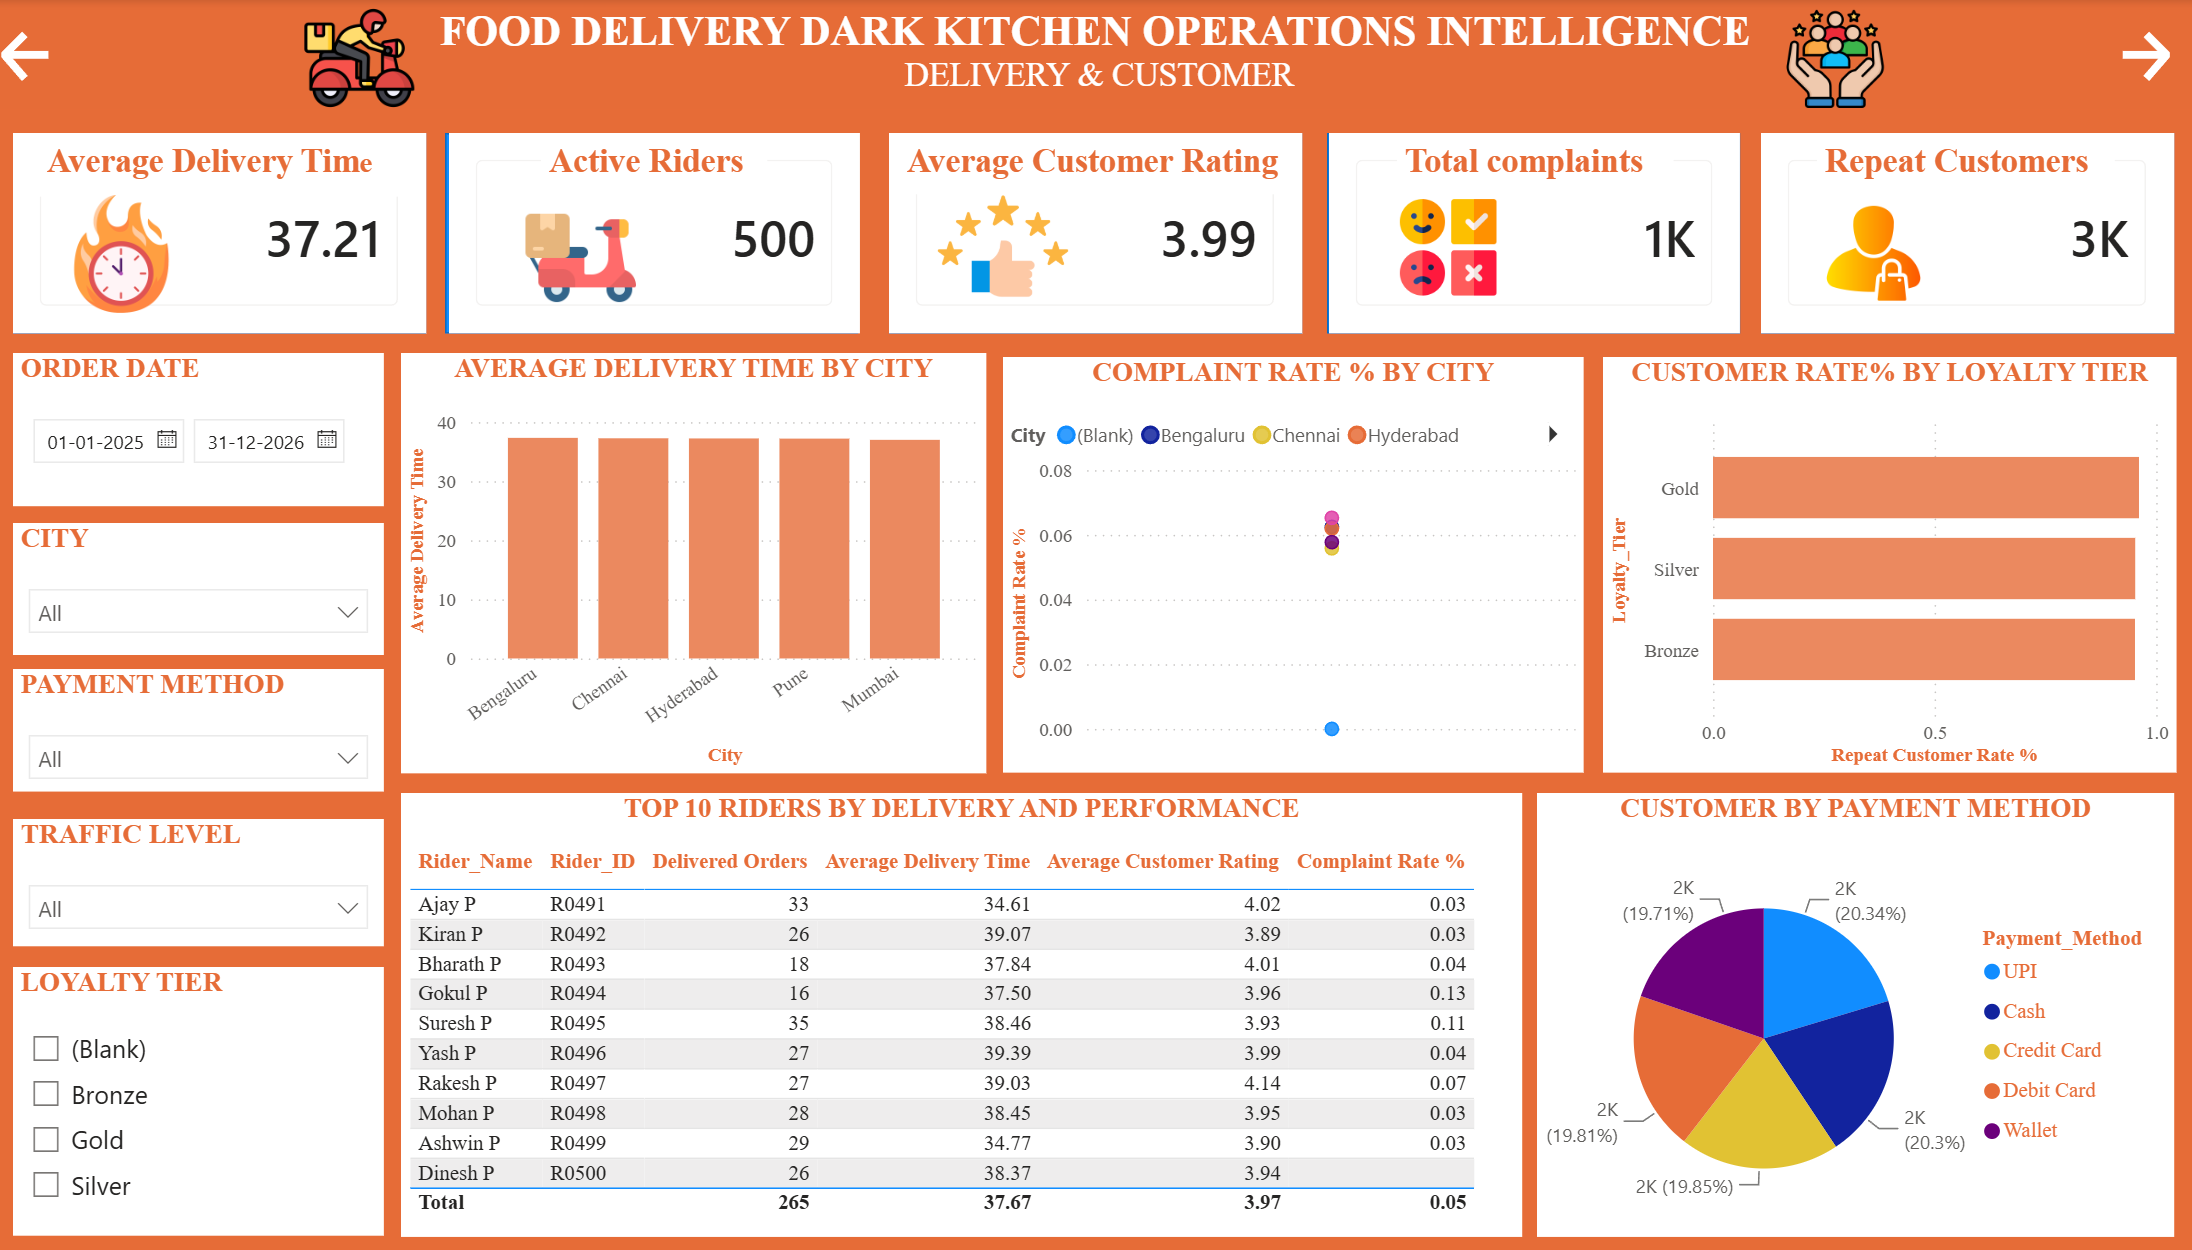

The page's visual inventory and layout, read from the dashboard file:
{"tool":"powerbi","page":{"name":"Delivery & Customer","canvas":[1400,800],"ordinal":2},"visuals":[{"type":"textbox","box":[0,0,1400,70.6],"z":0},{"type":"shape","box":[12,85.6,262.9,127.7],"z":1000},{"type":"shape","box":[286.9,85.6,262.9,127.7],"z":2000},{"type":"shape","box":[569.3,85.6,262.9,127.7],"z":3000},{"type":"shape","box":[1123.6,85.6,262.9,127.7],"z":4000},{"type":"shape","box":[847.2,85.6,262.9,127.7],"z":5000},{"type":"cardVisual","fields":{"Data":["DB 3 Measures.Active Riders"]},"box":[288.4,85.6,261.4,127.7],"z":6000},{"type":"cardVisual","fields":{"Data":["DB 3 Measures.Average Customer Rating"]},"box":[569.3,85.6,262.9,127.7],"z":7000},{"type":"cardVisual","fields":{"Data":["DB 3 Measures.Total Complaints"]},"box":[848.7,85.6,261.4,127.7],"z":8000},{"type":"cardVisual","fields":{"Data":["DB 3 Measures.Repeat Customers"]},"box":[1123.6,85.6,262.9,127.7],"z":9000},{"type":"cardVisual","fields":{"Data":["DB 3 Measures.Average Delivery Time"]},"box":[12,85.6,262.9,127.7],"z":10000},{"type":"textbox","box":[28.5,85.6,229.8,40.6],"z":11000},{"type":"textbox","box":[347,85.6,144.2,42.1],"z":12000},{"type":"textbox","box":[575.3,85.6,249.4,39.1],"z":13000},{"type":"textbox","box":[892.3,85.6,175.8,34.5],"z":14000},{"type":"textbox","box":[1159.7,85.6,189.3,39.1],"z":15000},{"type":"image","box":[40.6,124.7,76.6,75.1],"z":16000},{"type":"image","box":[306.4,127.7,132.2,75.1],"z":17000},{"type":"image","box":[575.3,111.2,132.2,91.6],"z":18000},{"type":"image","box":[881.8,127.7,85.6,61.6],"z":19000},{"type":"image","box":[1159.7,127.7,72.1,69.1],"z":20000},{"type":"clusteredColumnChart","title":"AVERAGE DELIVERY TIME BY CITY","fields":{"Category":["customers.City"],"Y":["DB 3 Measures.Average Delivery Time"]},"box":[258.4,225.3,372.5,267.4],"z":21000},{"type":"scatterChart","title":"COMPLAINT RATE % BY CITY","fields":{"Y":["DB 3 Measures.Complaint Rate %"],"Series":["customers.City"]},"box":[641.4,228.3,369.5,264.4],"z":22000},{"type":"pieChart","title":"CUSTOMER BY PAYMENT METHOD ","fields":{"Category":["orders.Payment_Method"],"Y":["DB 3 Measures.Total Customers"]},"box":[980.9,504.7,405.6,282.4],"z":23000},{"type":"clusteredBarChart","title":"CUSTOMER RATE% BY LOYALTY TIER","fields":{"Category":["customers.Loyalty_Tier"],"Y":["DB 3 Measures.Repeat Customer Rate %"]},"box":[1023,228.3,365,264.4],"z":24000},{"type":"tableEx","title":"TOP 10 RIDERS BY DELIVERY AND PERFORMANCE","fields":{"Values":["riders.Rider_Name","riders.Rider_ID","DB 2 Measures.Delivered Orders","DB 3 Measures.Average Delivery Time","DB 3 Measures.Average Customer Rating","DB 3 Measures.Complaint Rate %"]},"box":[258.4,504.7,713.5,282.4],"z":25000},{"type":"slicer","title":"ORDER  DATE ","fields":{"Values":["orders.Order_Date"]},"box":[12,225.3,235.8,97.6],"z":26000},{"type":"slicer","title":"CITY","fields":{"Values":["customers.City"]},"box":[12,333.5,235.8,84.1],"z":27000},{"type":"slicer","title":"PAYMENT METHOD ","fields":{"Values":["orders.Payment_Method"]},"box":[12,426.6,235.8,78.1],"z":28000},{"type":"slicer","title":"TRAFFIC LEVEL ","fields":{"Values":["orders.Traffic_Level"]},"box":[12,521.2,235.8,81.1],"z":29000},{"type":"slicer","title":"LOYALTY TIER","fields":{"Values":["customers.Loyalty_Tier"]},"box":[12,615.9,235.8,171.2],"z":30000},{"type":"actionButton","box":[0,16.5,100,40],"z":31000},{"type":"actionButton","box":[1288,16.5,100,40],"z":32000},{"type":"image","box":[174.4,2.5,114.5,70],"z":33000},{"type":"image","box":[1123.8,6.4,94.2,63.6],"z":34000}]}

Visuals, with their boxes in screenshot pixels (x1, y1, x2, y2), scaled from the page's 1400x800 canvas onto the 2192x1250 screenshot:
textbox: 0 0 2191 110
shape: 19 134 430 333
shape: 449 134 861 333
shape: 891 134 1303 333
shape: 1759 134 2171 333
shape: 1326 134 1738 333
cardVisual - DB 3 Measures.Active Riders: 452 134 861 333
cardVisual - DB 3 Measures.Average Customer Rating: 891 134 1303 333
cardVisual - DB 3 Measures.Total Complaints: 1329 134 1738 333
cardVisual - DB 3 Measures.Repeat Customers: 1759 134 2171 333
cardVisual - DB 3 Measures.Average Delivery Time: 19 134 430 333
textbox: 45 134 404 197
textbox: 543 134 769 200
textbox: 901 134 1291 195
textbox: 1397 134 1672 188
textbox: 1816 134 2112 195
image: 64 195 184 312
image: 480 200 687 317
image: 901 174 1108 317
image: 1381 200 1515 296
image: 1816 200 1929 308
"AVERAGE DELIVERY TIME BY CITY" clusteredColumnChart: 405 352 988 770
"COMPLAINT RATE % BY CITY" scatterChart: 1004 357 1583 770
"CUSTOMER BY PAYMENT METHOD " pieChart: 1536 789 2171 1230
"CUSTOMER RATE% BY LOYALTY TIER" clusteredBarChart: 1602 357 2173 770
"TOP 10 RIDERS BY DELIVERY AND PERFORMANCE" tableEx: 405 789 1522 1230
"ORDER  DATE " slicer: 19 352 388 505
"CITY" slicer: 19 521 388 652
"PAYMENT METHOD " slicer: 19 667 388 789
"TRAFFIC LEVEL " slicer: 19 814 388 941
"LOYALTY TIER" slicer: 19 962 388 1230
actionButton: 0 26 157 88
actionButton: 2017 26 2173 88
image: 273 4 452 113
image: 1760 10 1907 109
